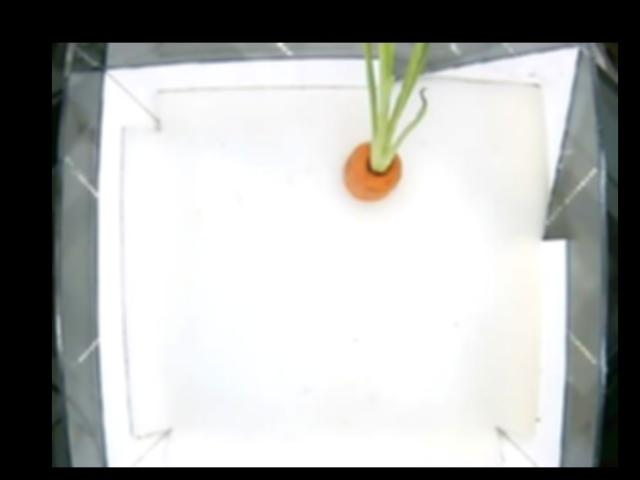Carrot: (339, 102, 410, 202)
